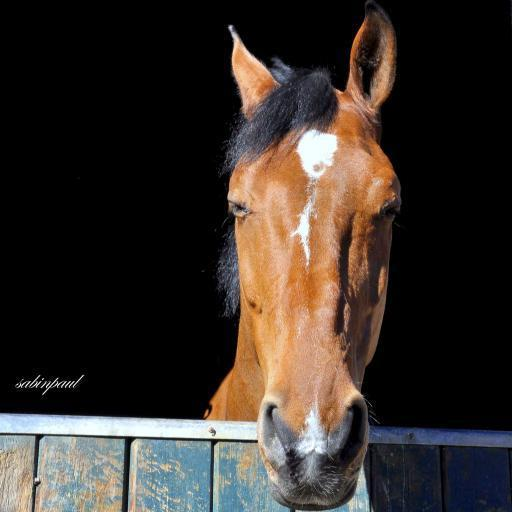horse: (200, 0, 405, 512)
